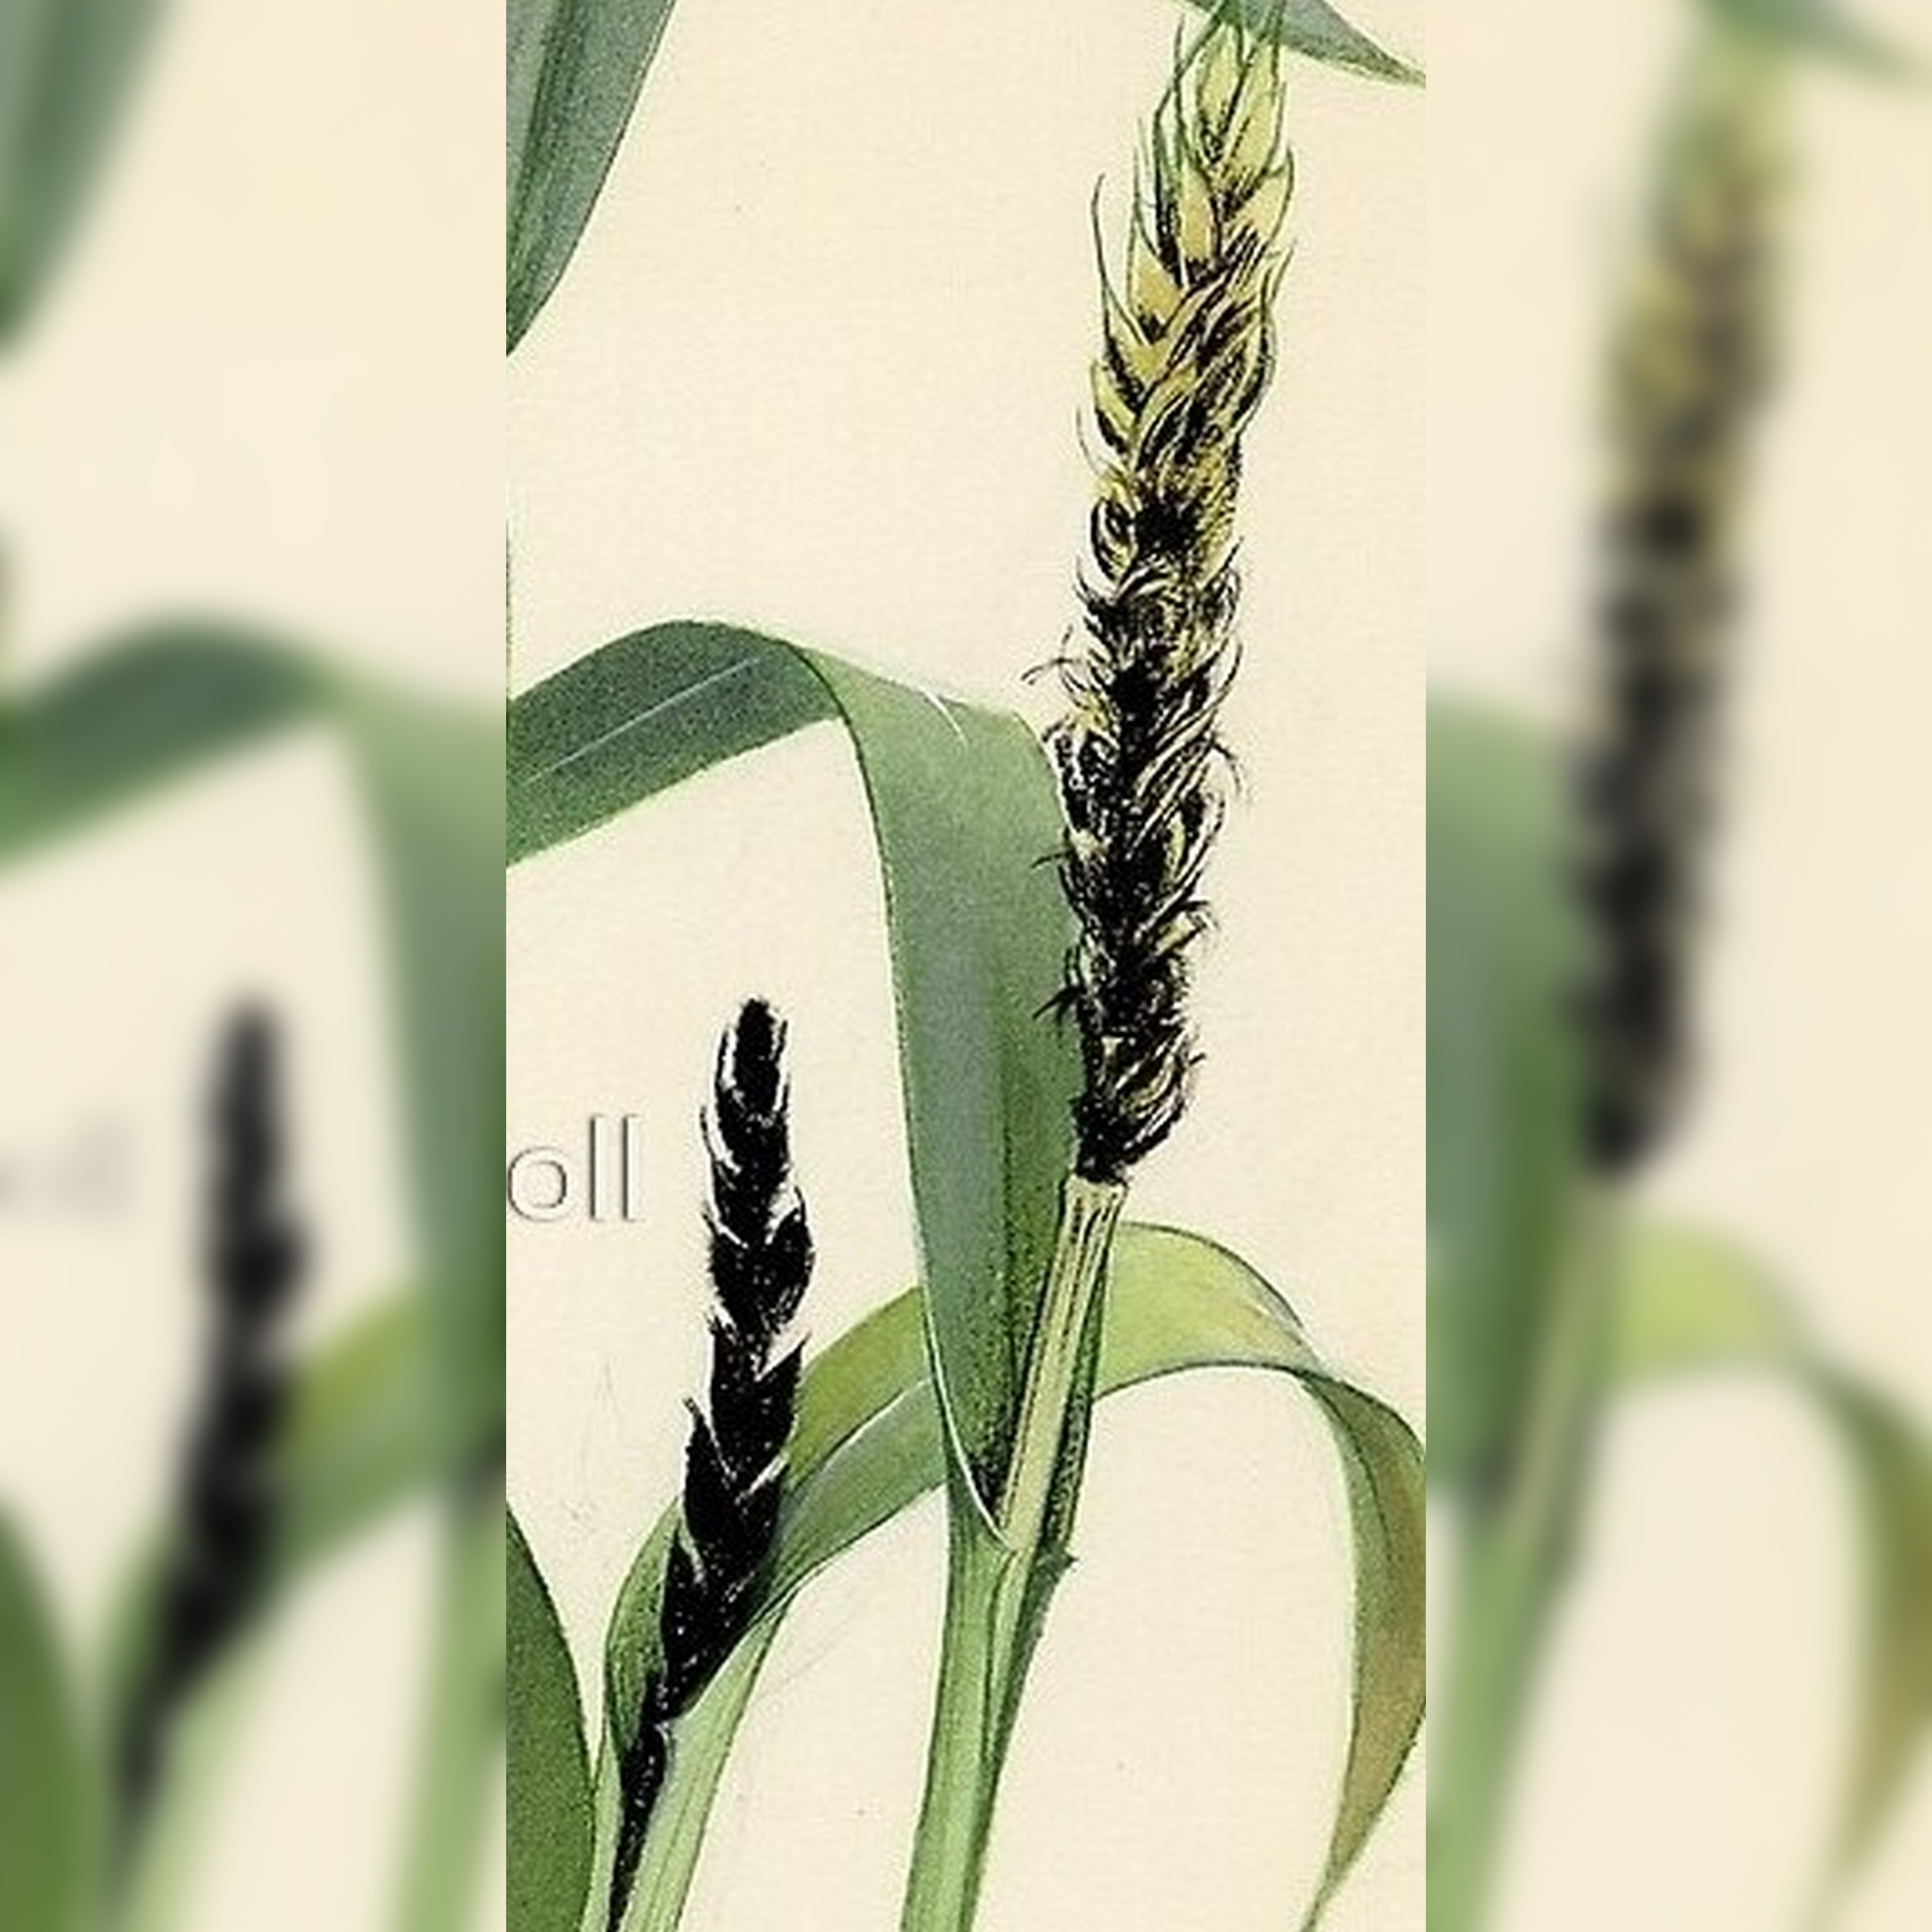Wheat Loose Smut: (662, 945, 840, 1652)
